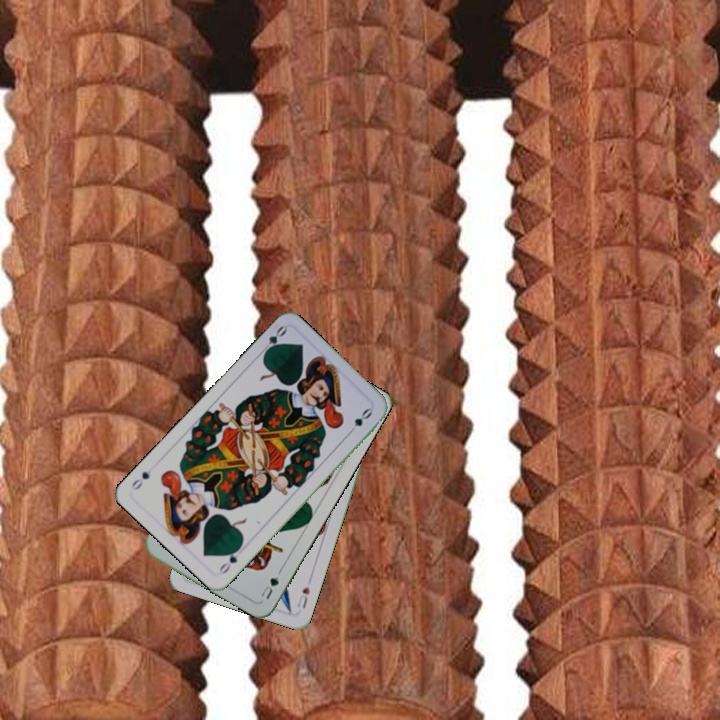GO: (256, 322, 289, 358), (215, 542, 244, 577)
GU: (257, 572, 282, 602)
HU: (293, 575, 314, 611)
